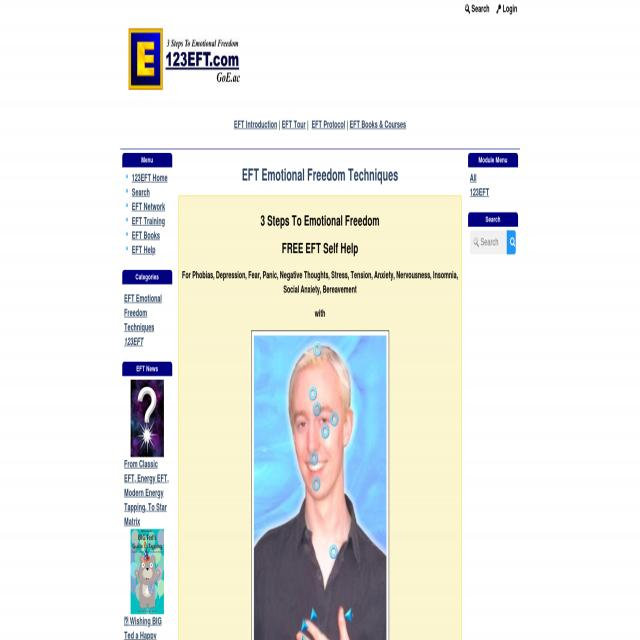button: (128, 28, 240, 90), (130, 530, 163, 614), (130, 380, 164, 457), (462, 0, 492, 18), (494, 0, 520, 18), (506, 230, 516, 254)
field: (470, 230, 506, 254)
